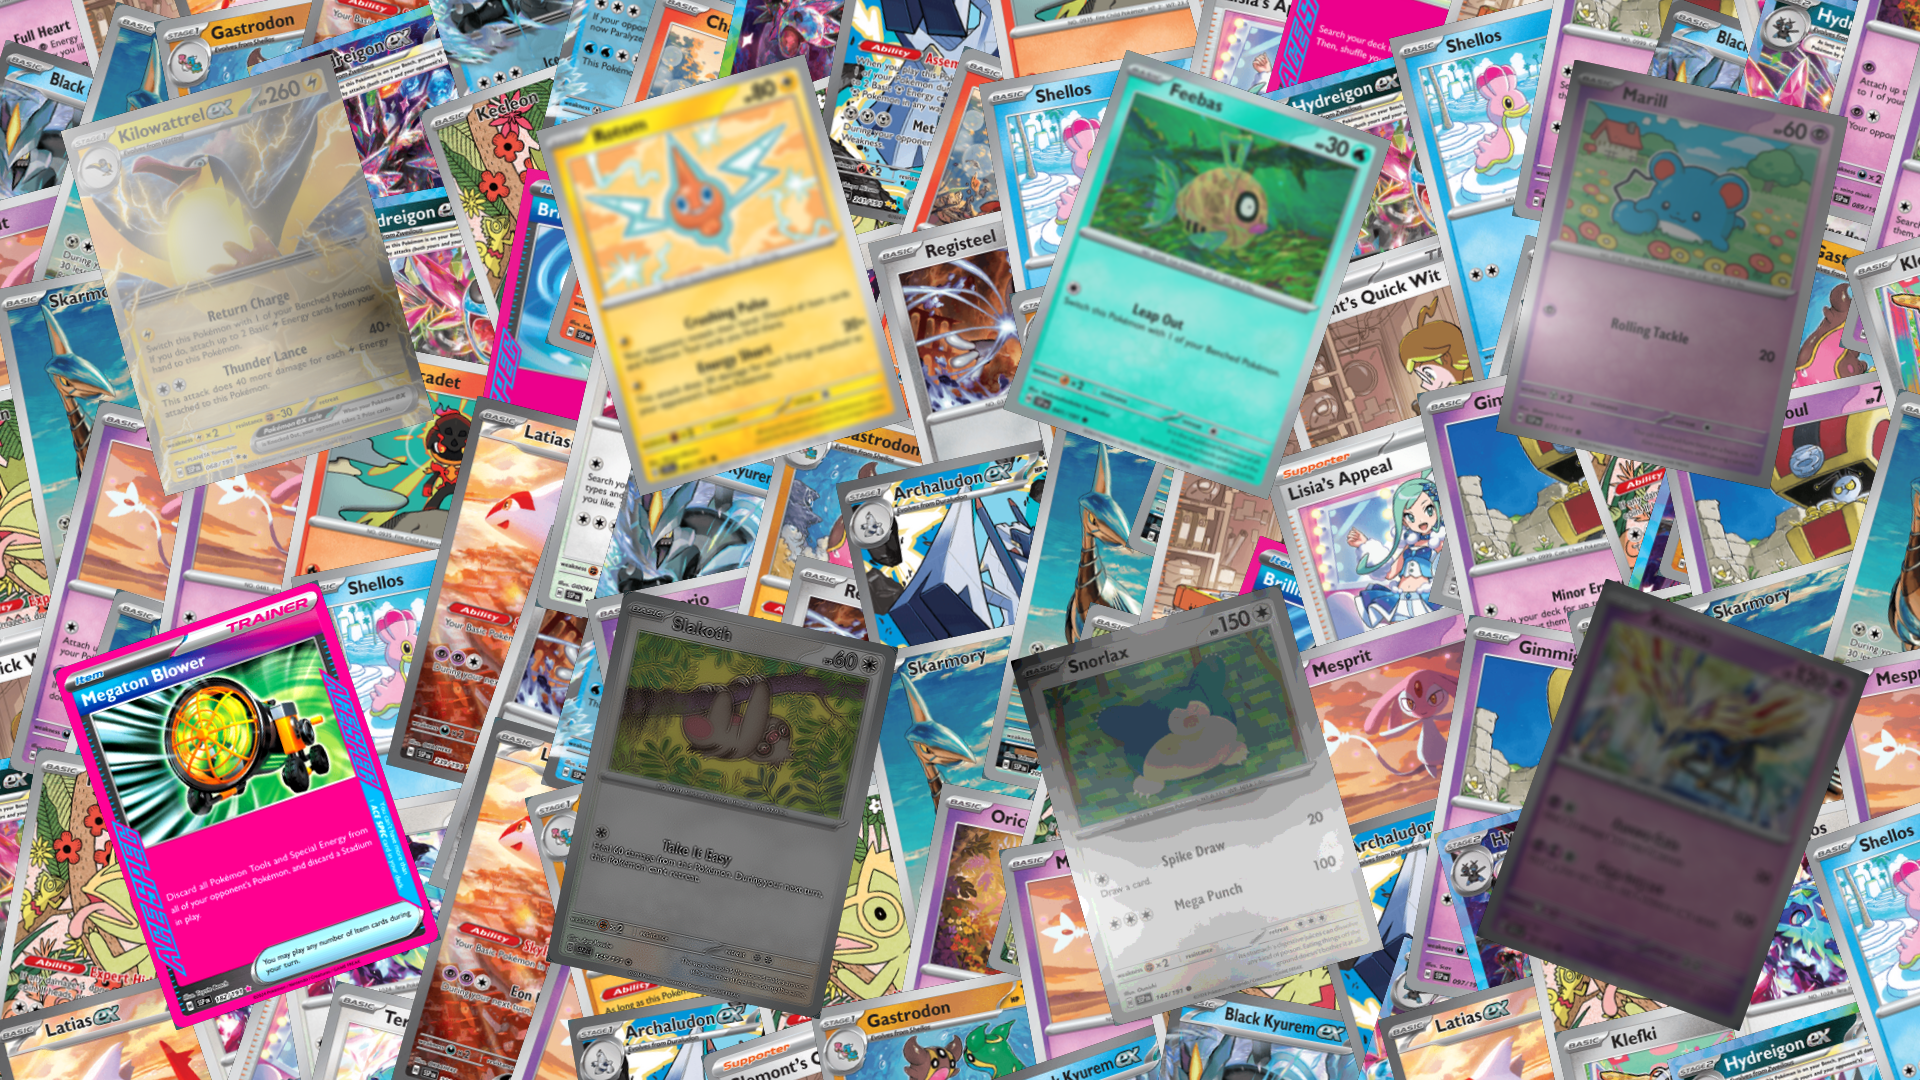Feebas: (1002, 49, 1391, 500)
Kilowattrel_ex: (61, 53, 434, 496)
Marill: (1495, 59, 1847, 489)
Megaton_Blower: (51, 579, 440, 1030)
Rotom: (535, 53, 909, 496)
Slakoth: (545, 589, 898, 1019)
Snorlax: (1010, 583, 1385, 1026)
Xerneas: (1476, 578, 1869, 1031)
